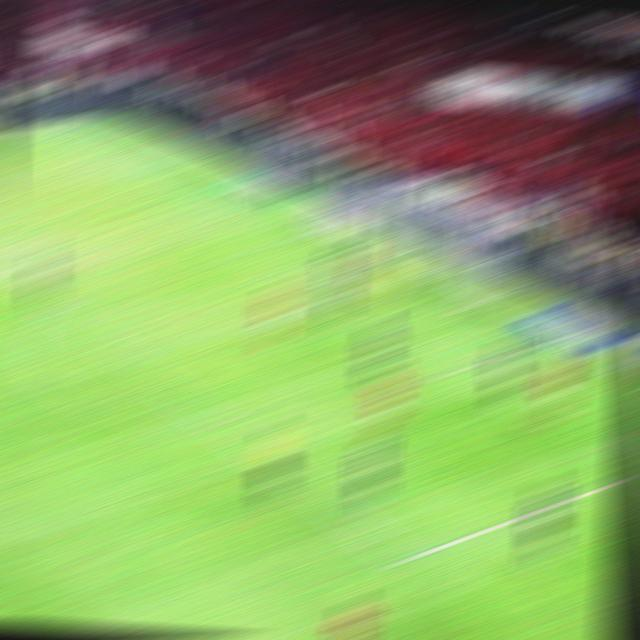bigarea_bottom_inner: (388, 547, 423, 573)
bigarea_top_outter: (199, 175, 227, 182)
bottom_arc_area_intersection: (201, 413, 232, 430)
corner: (89, 116, 117, 122)
smallarea_bottom_inner: (436, 363, 467, 381)
smallarea_bottom_outter: (522, 336, 560, 352)
smallarea_top_inner: (224, 246, 250, 256)
smallarea_top_outter: (298, 225, 333, 239)
top_arc_area_intersection: (41, 301, 71, 316)
